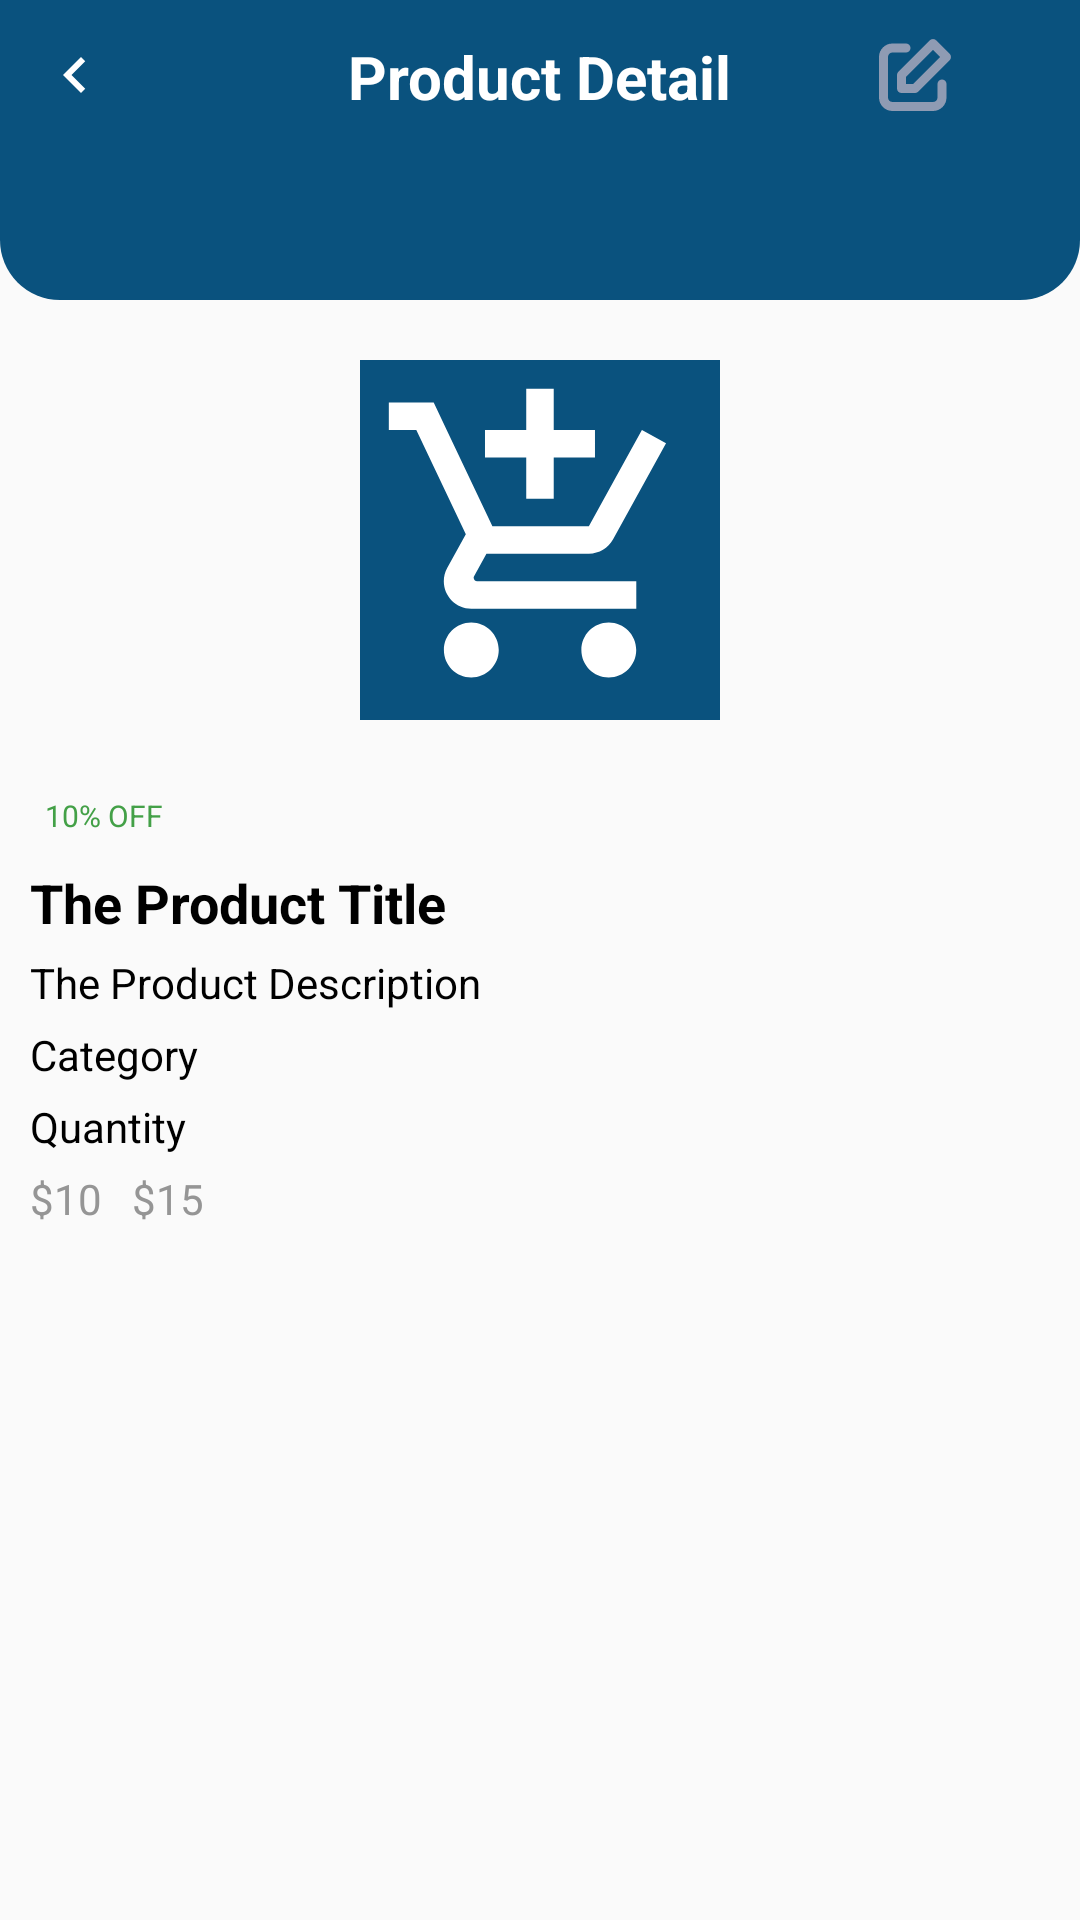

Locate icon controls on the screen. Image size 1080w x 1920h, boxes as {"x1": x1, "y1": y1, "x2": x2, "y2": y2}.
add shopping cart: {"x1": 360, "y1": 360, "x2": 720, "y2": 720}
back: {"x1": 63, "y1": 57, "x2": 85, "y2": 93}
edit: {"x1": 879, "y1": 39, "x2": 951, "y2": 111}
